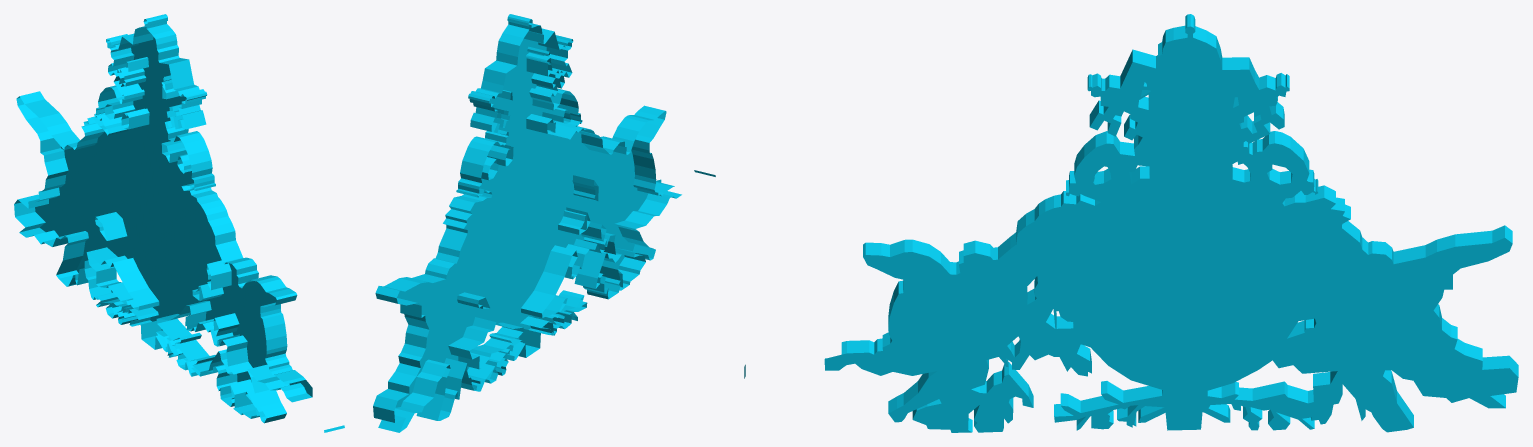
The picture shows the model from 3 angles, left to right: view 1: azimuth 30°, elevation 25°; view 2: azimuth 150°, elevation 25°; view 3: azimuth 270°, elevation 25°; orthographic projection. The views are drawn at different scales.
Visible parts, largest first — view 1: Plane023; view 2: Plane023; view 3: Plane023.
Boxes of the visible parts, <box> form: Plane023: <box>14,14,344,432</box>; Plane023: <box>373,14,715,432</box>; Plane023: <box>744,14,1518,432</box>.
Bounding box in the file's own units: 59.16 × 901 × 1554.
